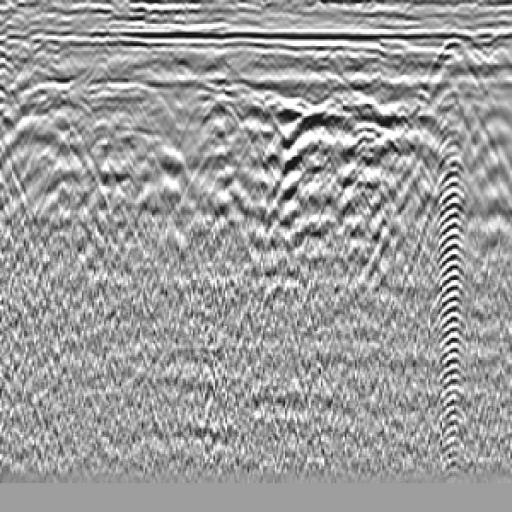metalic: (154, 64, 301, 284), (74, 65, 176, 125)
non-metallic: (308, 100, 431, 310)
